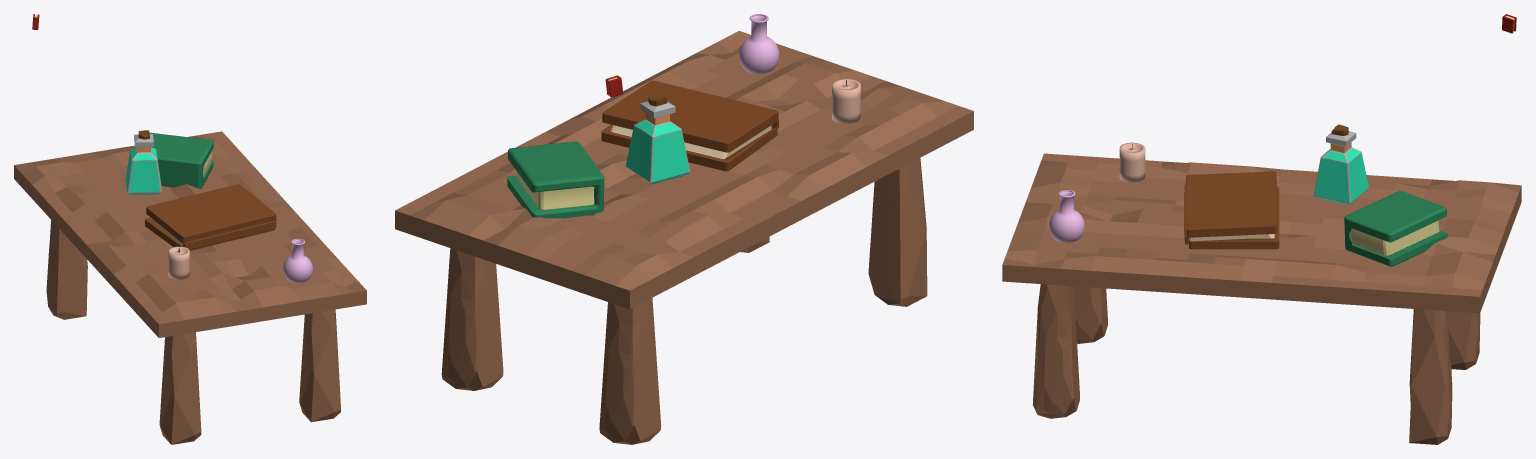
File: MainMenu Scene.fbx
The picture shows the model from 3 angles, left to right: view 1: azimuth 30°, elevation 25°; view 2: azimuth 150°, elevation 25°; view 3: azimuth 270°, elevation 25°; orthographic projection. The views are drawn at different scales.
Visible parts, largest first — view 1: Cube.014, Cube.001, Cube.027, Cube.004, Sphere.005, Cube.002, Cylinder.011, Cube; view 2: Cube.014, Cube.027, Cube.001, Cube.004, Cube, Sphere.005, Cylinder.011; view 3: Cube.014, Cube.001, Cube.027, Cube.004, Cube, Sphere.005, Cylinder.011.
Boxes of the visible parts, x1=… form: Cube.014: x1=14, y1=131, x2=366, y2=444; Cube.001: x1=146, y1=184, x2=276, y2=243; Cube.027: x1=149, y1=132, x2=214, y2=188; Cube.004: x1=125, y1=130, x2=162, y2=195; Sphere.005: x1=283, y1=238, x2=312, y2=282; Cube.002: x1=183, y1=221, x2=276, y2=249; Cylinder.011: x1=168, y1=246, x2=189, y2=279; Cube: x1=145, y1=217, x2=274, y2=250; Cube.014: x1=395, y1=31, x2=973, y2=444; Cube.027: x1=506, y1=141, x2=604, y2=218; Cube.001: x1=602, y1=80, x2=778, y2=152; Cube.004: x1=625, y1=93, x2=690, y2=184; Cube: x1=601, y1=124, x2=777, y2=171; Sphere.005: x1=739, y1=14, x2=779, y2=73; Cylinder.011: x1=832, y1=79, x2=860, y2=123; Cube.014: x1=1002, y1=153, x2=1521, y2=444; Cube.001: x1=1186, y1=171, x2=1276, y2=237; Cube.027: x1=1344, y1=191, x2=1447, y2=266; Cube.004: x1=1313, y1=124, x2=1368, y2=204; Cube: x1=1188, y1=186, x2=1279, y2=249; Sphere.005: x1=1049, y1=189, x2=1084, y2=242; Cylinder.011: x1=1119, y1=142, x2=1145, y2=182.
Size of the model in its own units: 749 by 828 by 1147.
